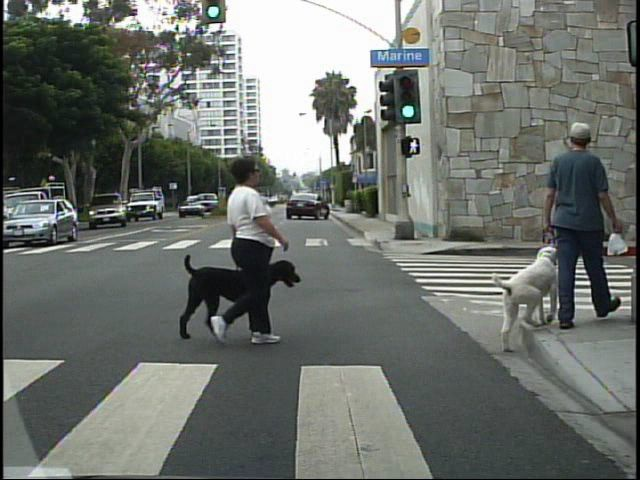person: (546, 111, 632, 341), (205, 146, 292, 350)
